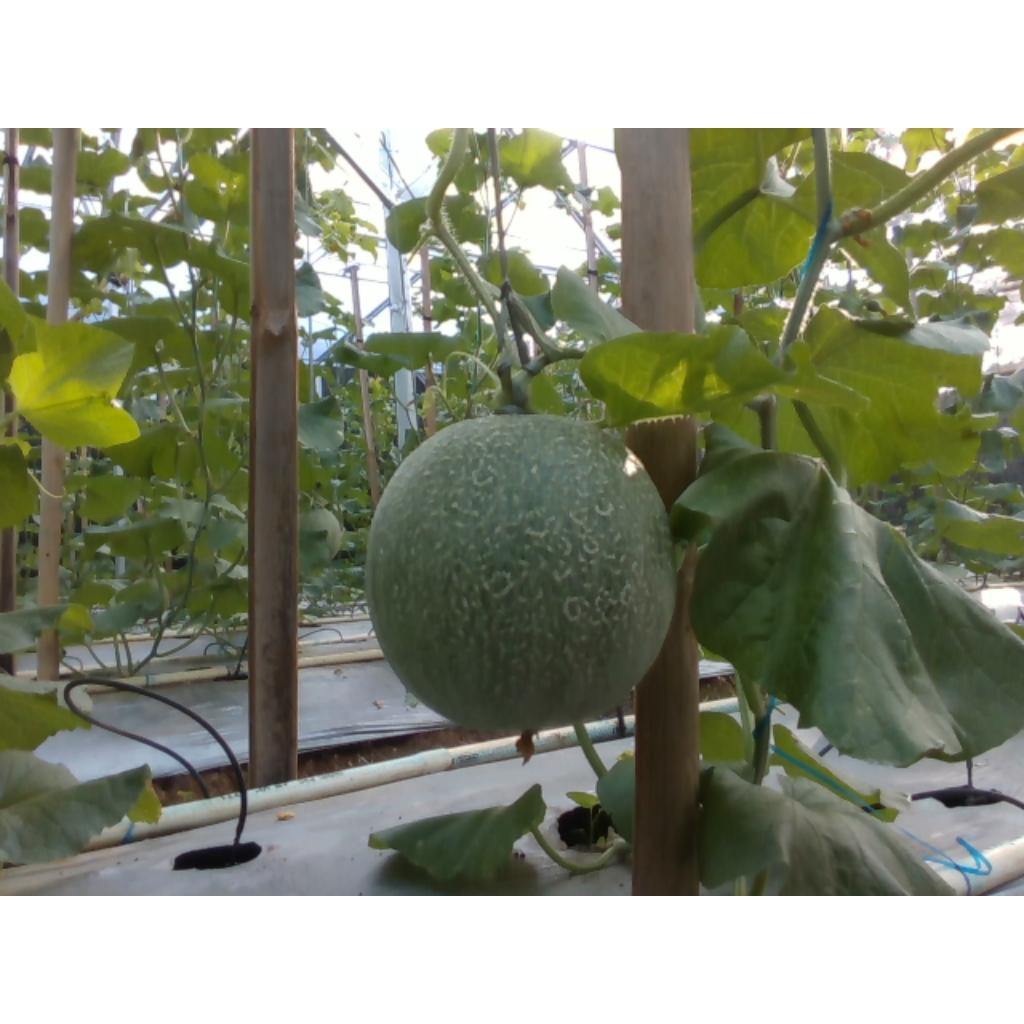melon: (366, 414, 677, 732)
